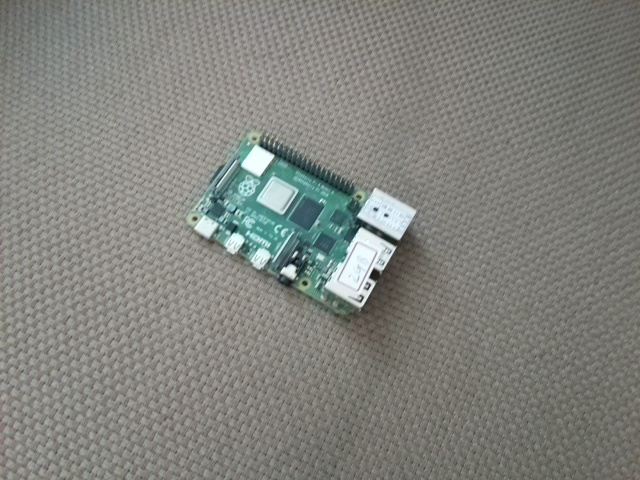Pi4: (181, 126, 420, 323)
